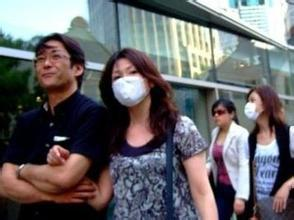NONE: (39, 51, 72, 89), (213, 109, 229, 126)
OK: (113, 71, 146, 104), (246, 99, 266, 123)
